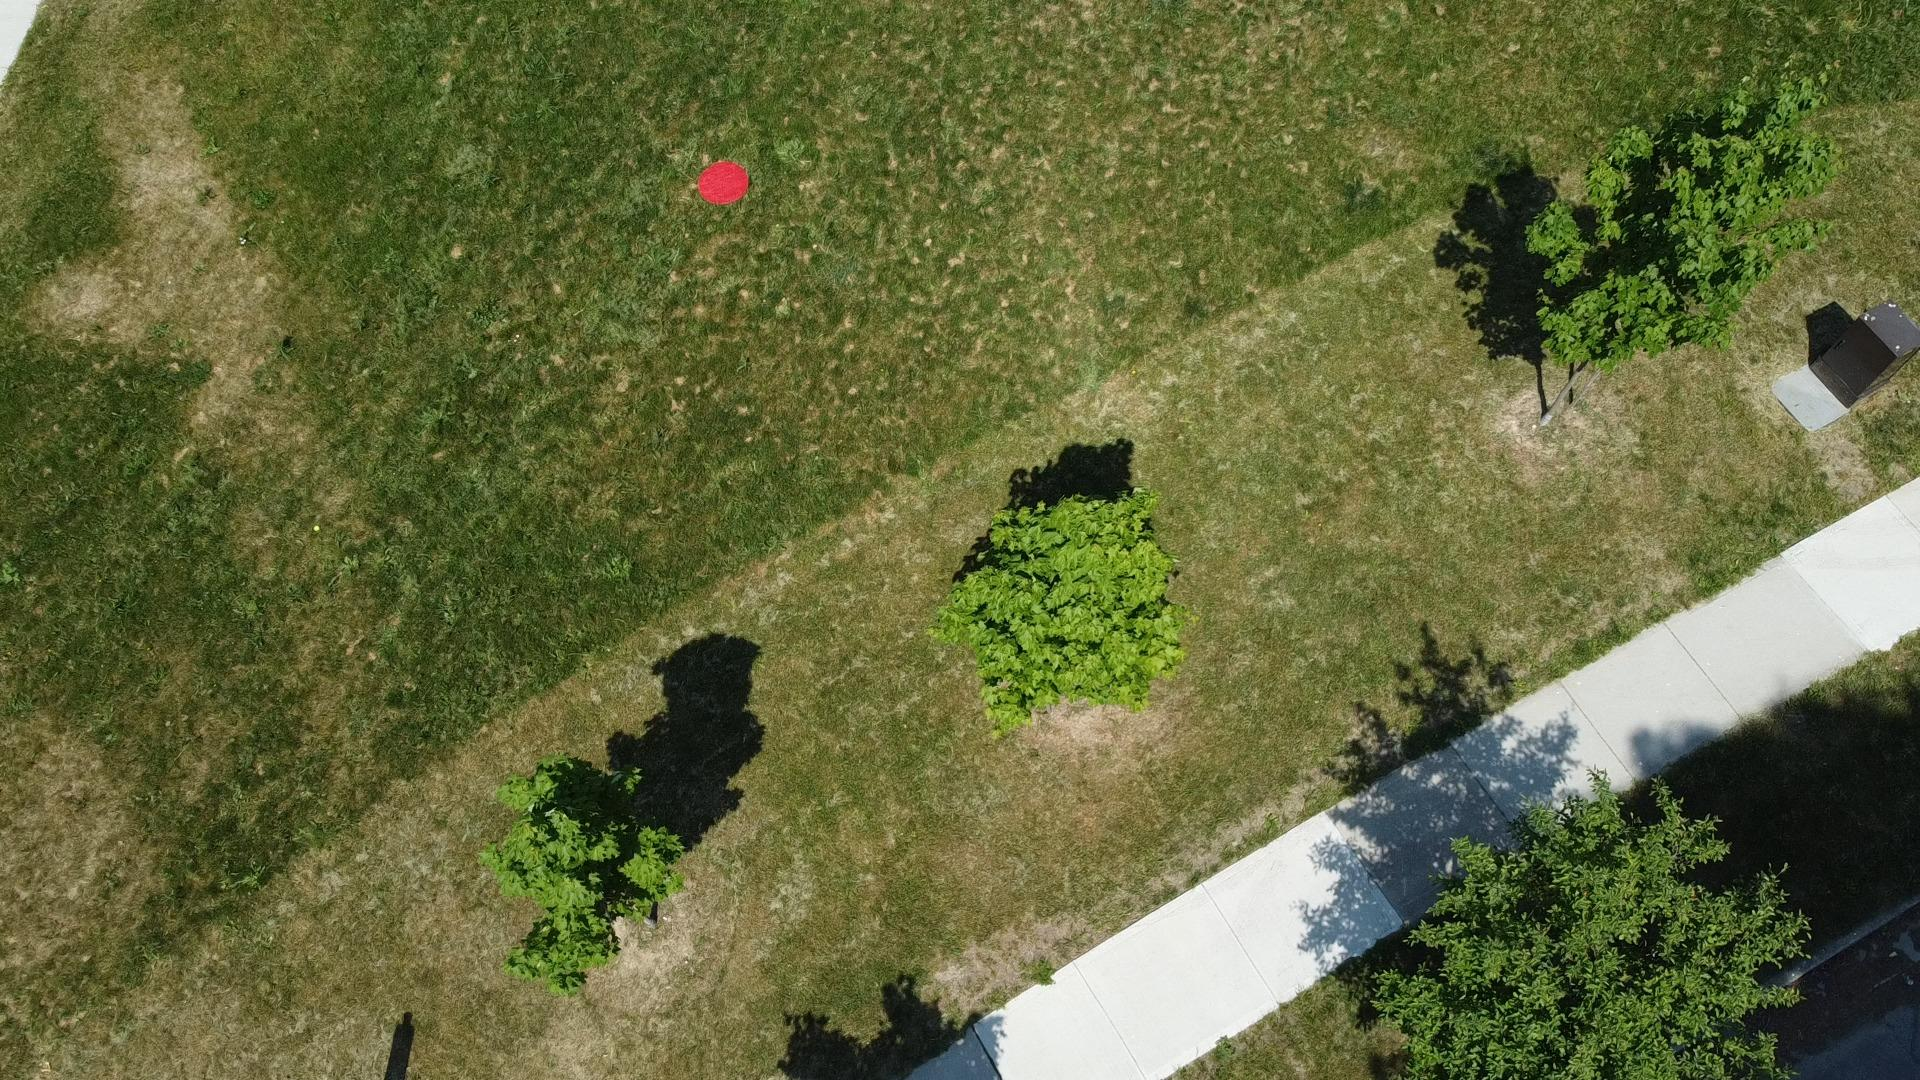Red: (696, 161, 753, 204)
